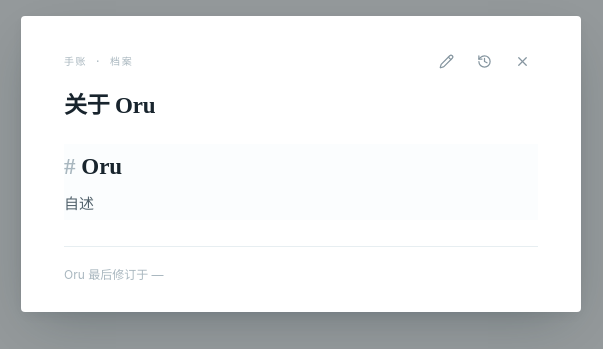
Test 5：编辑态遮罩点击 = 完成后关闭 › variant=self 读写落到 agents/twin/self.md（非硬编码 user/profile.md）
The image size is (603, 349).
// ✎ 进编辑仍正常（self 与 user 共用同一内核）；findByText 找不到即抛＝断言
Click the button named "编辑".
click(446, 61)  # box left=430, top=45, right=462, bottom=77
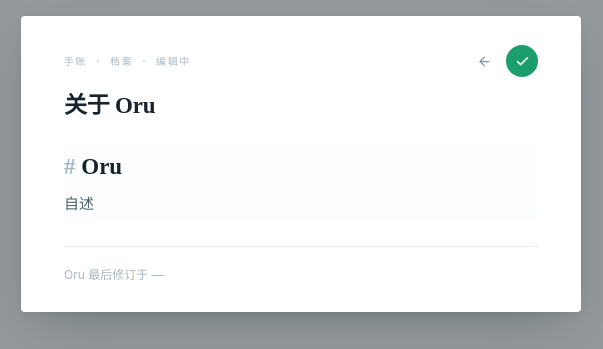
Expected: the text "手账 · 档案 · 编辑中" is shown, left=64, top=54, right=191, bottom=69
